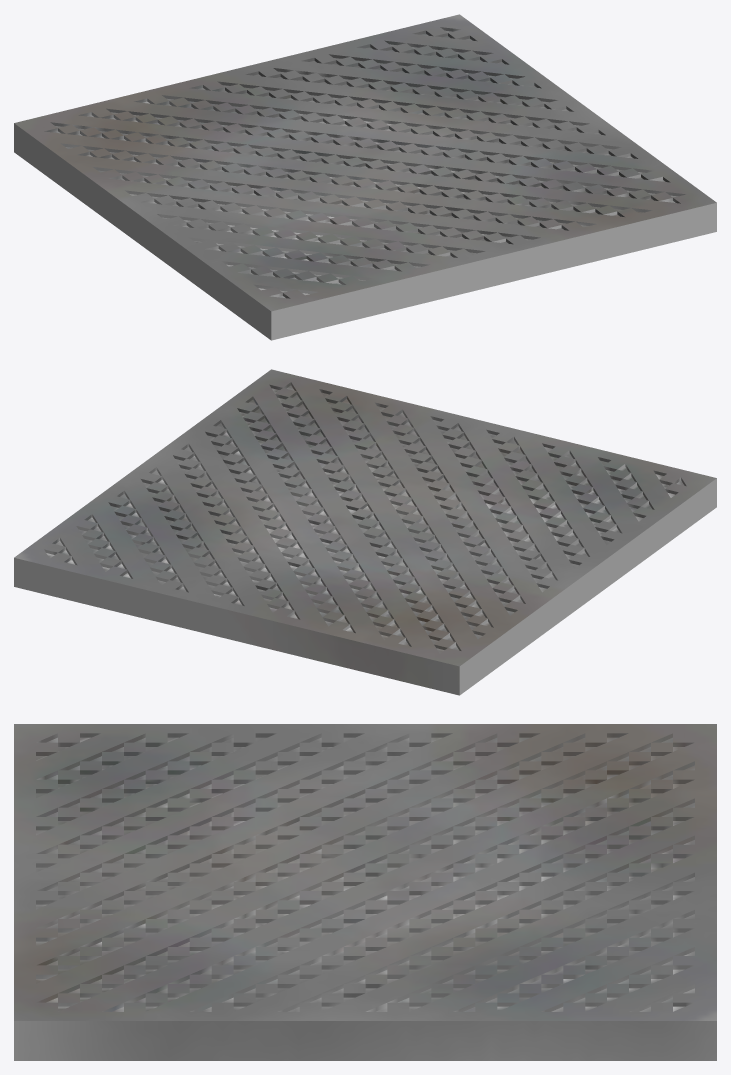
The model's file is floo8.glb.
3 renders of one model, top to bottom at view 1: azimuth 30°, elevation 25°; view 2: azimuth 150°, elevation 25°; view 3: azimuth 270°, elevation 25°, orthographic. The views are drawn at different scales.
Visible parts, largest first — view 1: Cube; view 2: Cube; view 3: Cube.
Boxes of the visible parts, x1,y1,x2,y2 form: Cube: [14, 14, 716, 340]; Cube: [14, 369, 716, 695]; Cube: [14, 724, 716, 1060].
Bounding box in the file's own units: 2 × 0.125 × 2.
1 material, 1 textured.
